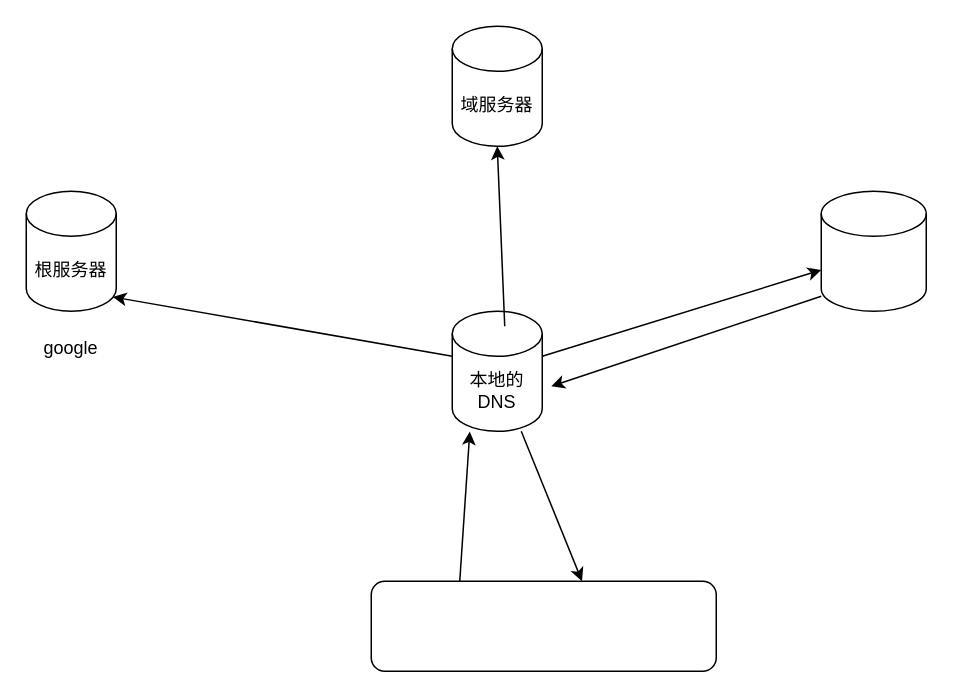
Some shapes in this 953 by 698 pixel diagram are drawn without their labels. Each missing label, with the centre of its shape:
"子域名服务 baidu" goes at (873,250).
"浏览器,输入百度的域名 .com .cn .org .net" goes at (543,625).
